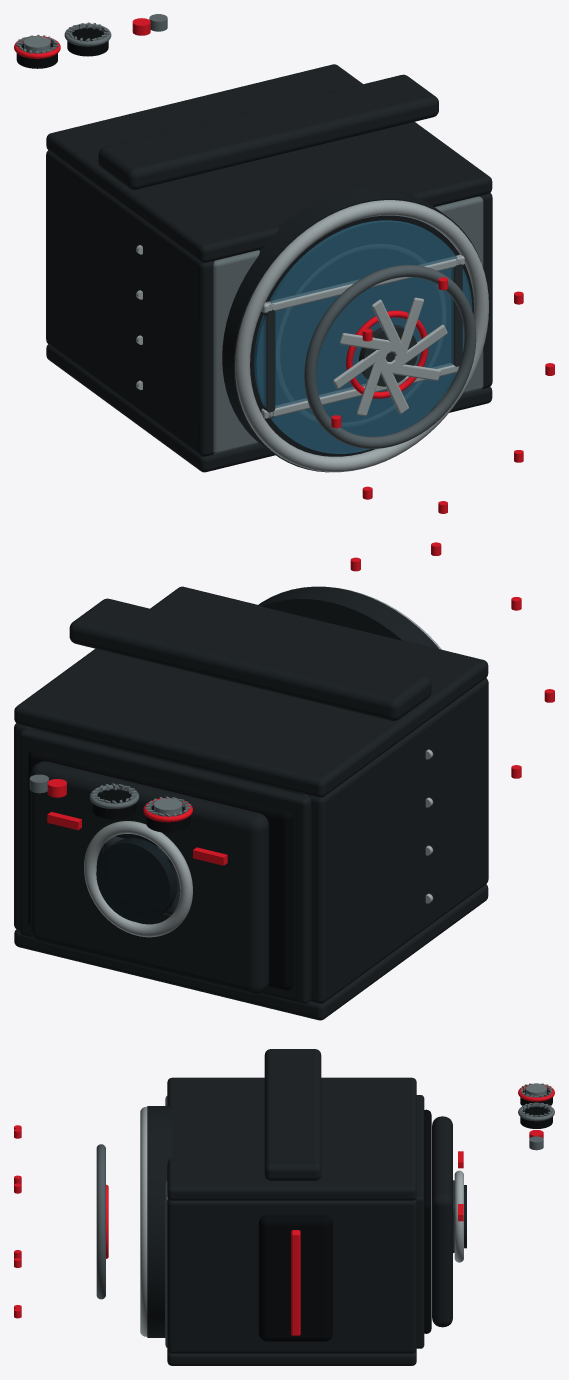
The model's file is ufirst-camera-production.glb.
3 views of the same model, one above another, from view 1: azimuth 30°, elevation 25°; view 2: azimuth 150°, elevation 25°; view 3: azimuth 270°, elevation 25° (orthographic). The views are drawn at different scales.
Parts seen in each view (by area): view 1: TopPlate, LeftBodyRail, FrontLens, TopCarryHandle, LensHousingFrontEdge, LensHousing, Aperture, FrontChassisPlate, BottomPlate, RightBodyRail, Shutter, ShutterRailLeft (+13 smaller); view 2: TopPlate, LeftBodyRail, RearModule, TopCarryHandle, RearChassisPlate, RearGripPanel, BottomPlate, ViewfinderGlass, LensHousing, ViewfinderRing, RightBodyRail, ShutterDial base; view 3: RightBodyRail, TopPlate, Grip, TopCarryHandle, LensHousing, RearModule, BottomPlate, RearChassisPlate, LensHousingFrontEdge, RearGripPanel, Aperture, GripAccent (+3 smaller).
Boxes of the visible parts, box(x1,y1,x2,y2) form: TopPlate: box(46, 64, 492, 262); LeftBodyRail: box(46, 150, 214, 456); FrontLens: box(254, 220, 472, 453); TopCarryHandle: box(98, 74, 438, 189); LensHousingFrontEdge: box(235, 200, 488, 472); LensHousing: box(222, 187, 483, 472); Aperture: box(304, 265, 476, 448); FrontChassisPlate: box(213, 196, 483, 454); BottomPlate: box(46, 344, 492, 472); RightBodyRail: box(479, 192, 492, 389); Shutter: box(261, 255, 464, 313); ShutterRailLeft: box(263, 301, 275, 417); TopPlate: box(14, 586, 488, 797); LeftBodyRail: box(308, 678, 488, 1003); RearModule: box(30, 761, 268, 994); TopCarryHandle: box(69, 598, 431, 721); RearChassisPlate: box(19, 728, 311, 1003); RearGripPanel: box(28, 749, 293, 990); BottomPlate: box(14, 884, 488, 1020); ViewfinderGlass: box(96, 838, 177, 922); LensHousing: box(258, 586, 438, 648); ViewfinderRing: box(84, 821, 192, 937); RightBodyRail: box(14, 723, 107, 930); ShutterDial base: box(92, 789, 136, 819); RightBodyRail: box(167, 1199, 416, 1353); TopPlate: box(167, 1077, 416, 1200); Grip: box(258, 1215, 332, 1341); TopCarryHandle: box(264, 1049, 321, 1180); LensHousing: box(147, 1106, 172, 1337); RearModule: box(432, 1116, 452, 1327); BottomPlate: box(167, 1349, 416, 1365); RearChassisPlate: box(416, 1095, 424, 1348); LensHousingFrontEdge: box(140, 1106, 147, 1336); RearGripPanel: box(424, 1109, 431, 1333); Aperture: box(96, 1144, 105, 1299); GripAccent: box(291, 1230, 300, 1335).
Size of the model in its own units: 6.08 by 5.07 by 11.28.
